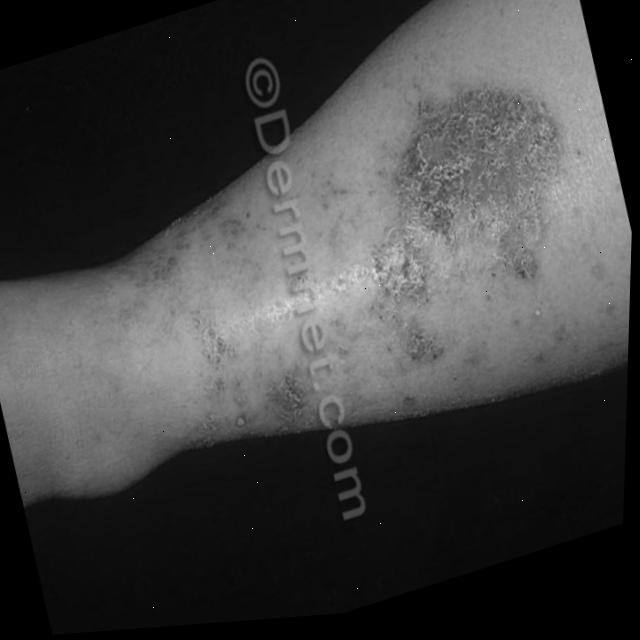Eczema: (154, 69, 621, 465)
